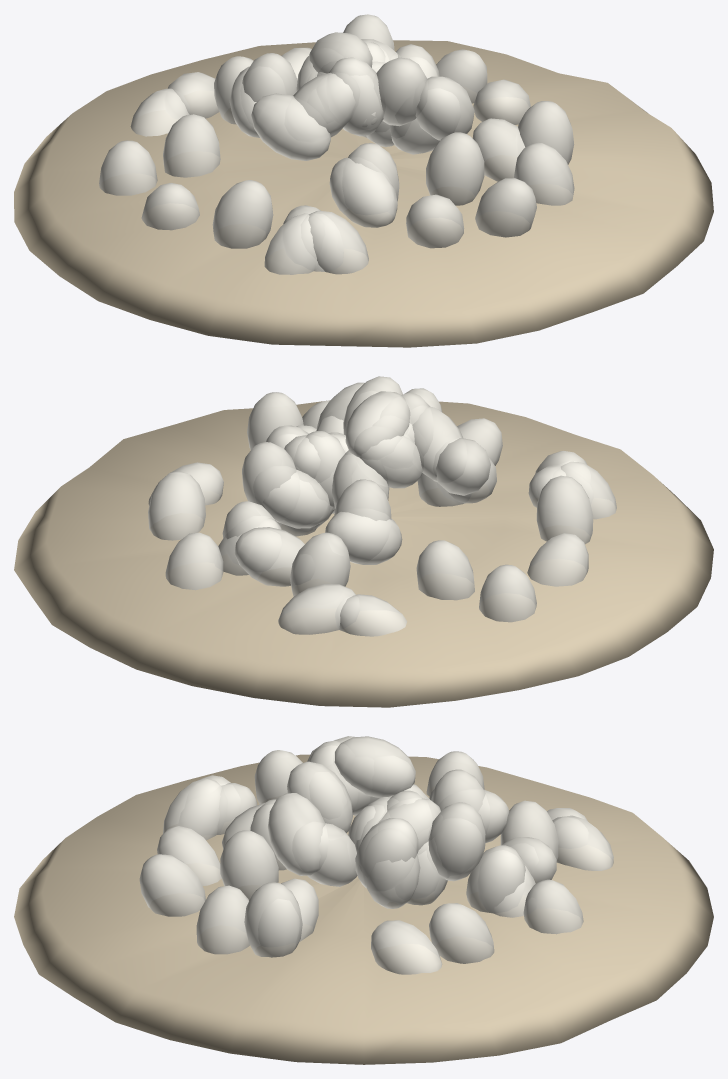
The model's file is nest-eggpile.glb.
3 views of the same model, one above another, from view 1: azimuth 30°, elevation 25°; view 2: azimuth 150°, elevation 25°; view 3: azimuth 270°, elevation 25° (orthographic).
Parts seen in each view (by area): view 1: EggPile__Bedding, EggPile__Eggs; view 2: EggPile__Bedding, EggPile__Eggs; view 3: EggPile__Bedding, EggPile__Eggs.
Part boxes in pixels (x1,y1,x2,y2): EggPile__Bedding: (14, 40, 713, 347); EggPile__Eggs: (99, 14, 574, 274); EggPile__Bedding: (14, 400, 713, 707); EggPile__Eggs: (148, 376, 616, 636); EggPile__Bedding: (14, 754, 713, 1064); EggPile__Eggs: (139, 736, 613, 974).
Size of the model in its own units: 10 by 2.77 by 10.
